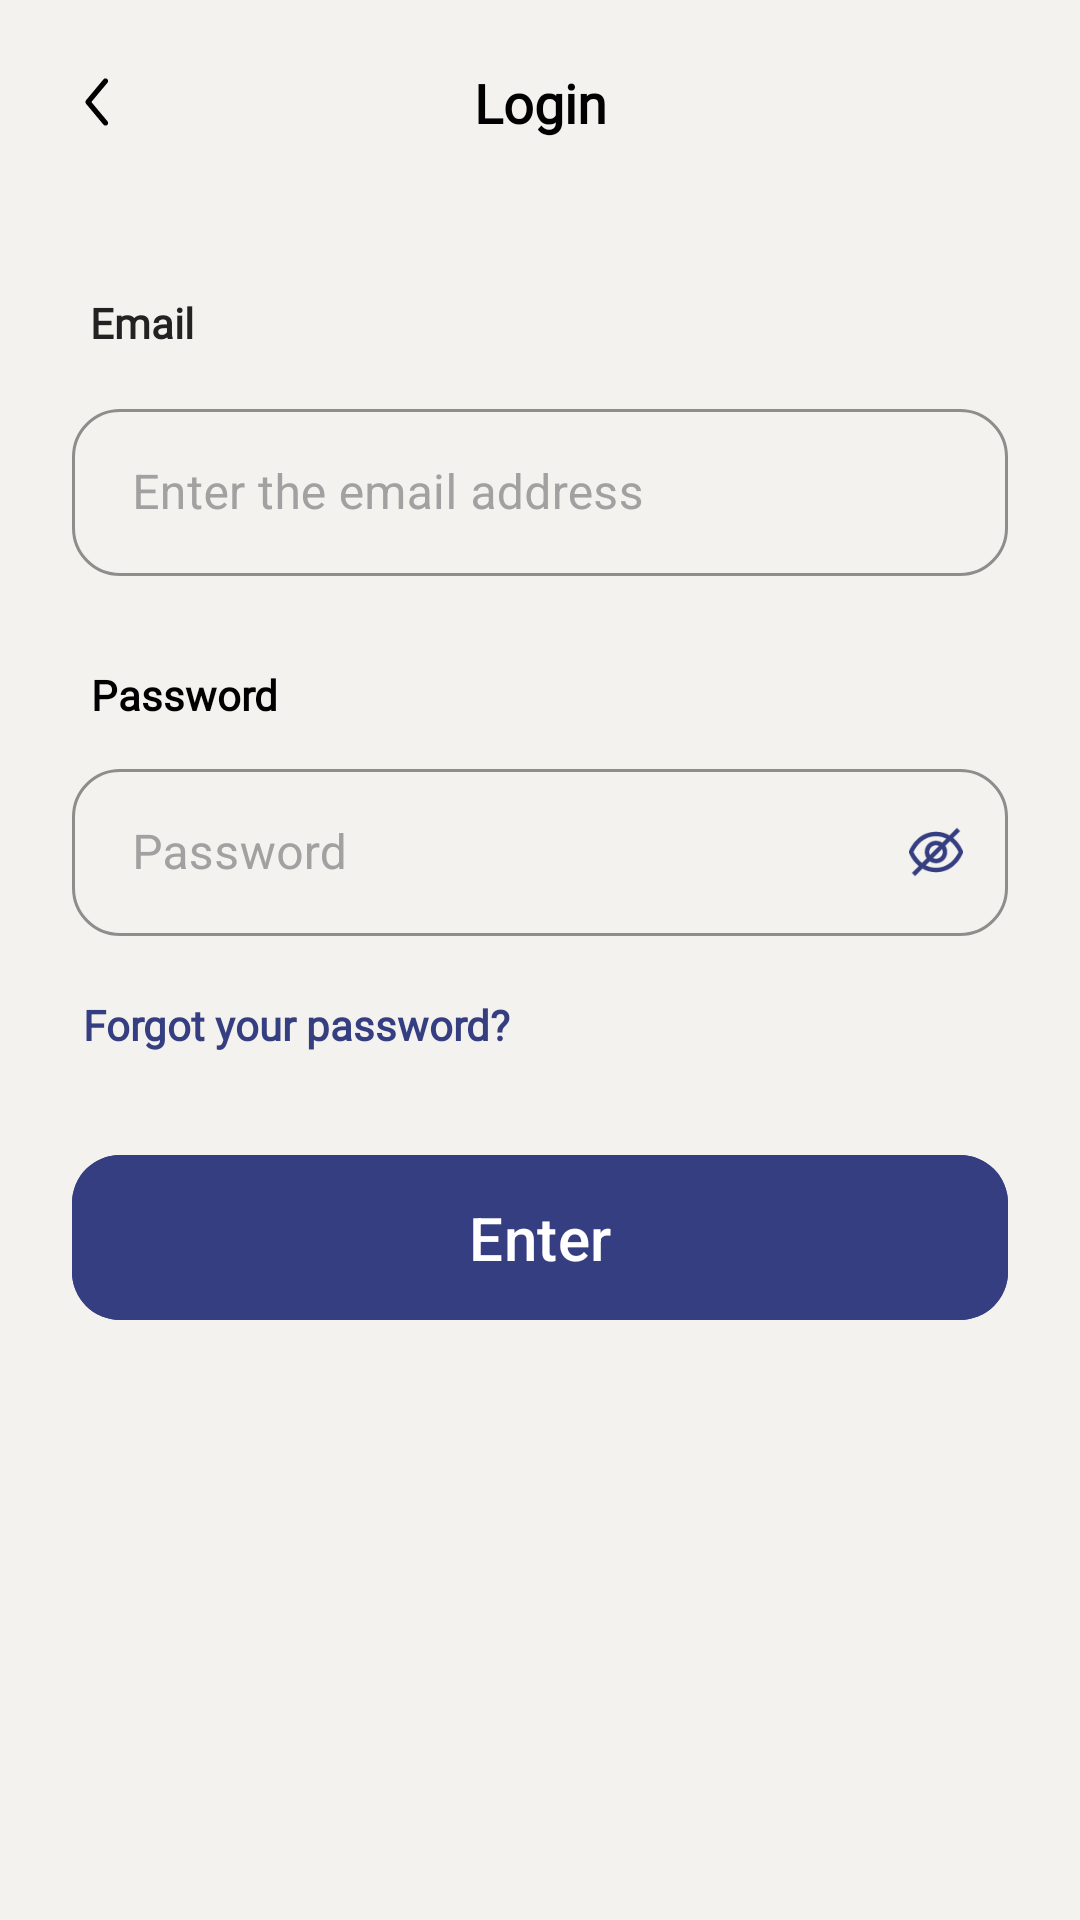

Icons on this 1080px x 1920px Android screen, each with its box as bbox=(x1, y1, x2, y2):
back: bbox=(85, 78, 108, 126)
